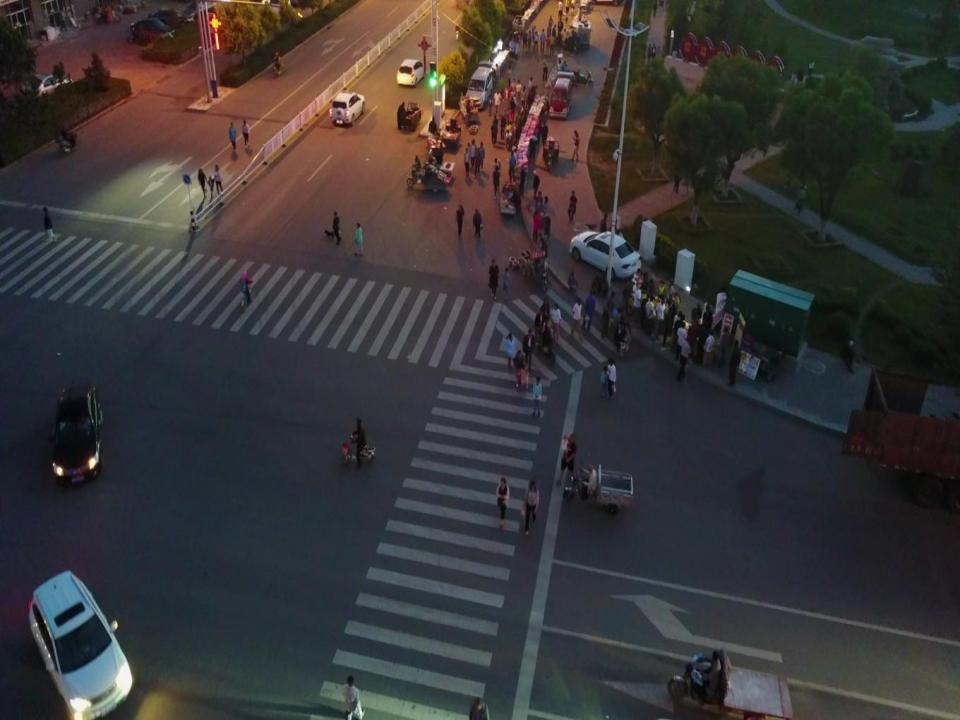car: (27, 567, 135, 720), (50, 380, 106, 487), (570, 229, 642, 280), (20, 72, 75, 105), (130, 18, 178, 49), (328, 89, 366, 127), (146, 7, 194, 34), (181, 1, 221, 24), (396, 58, 426, 88)
